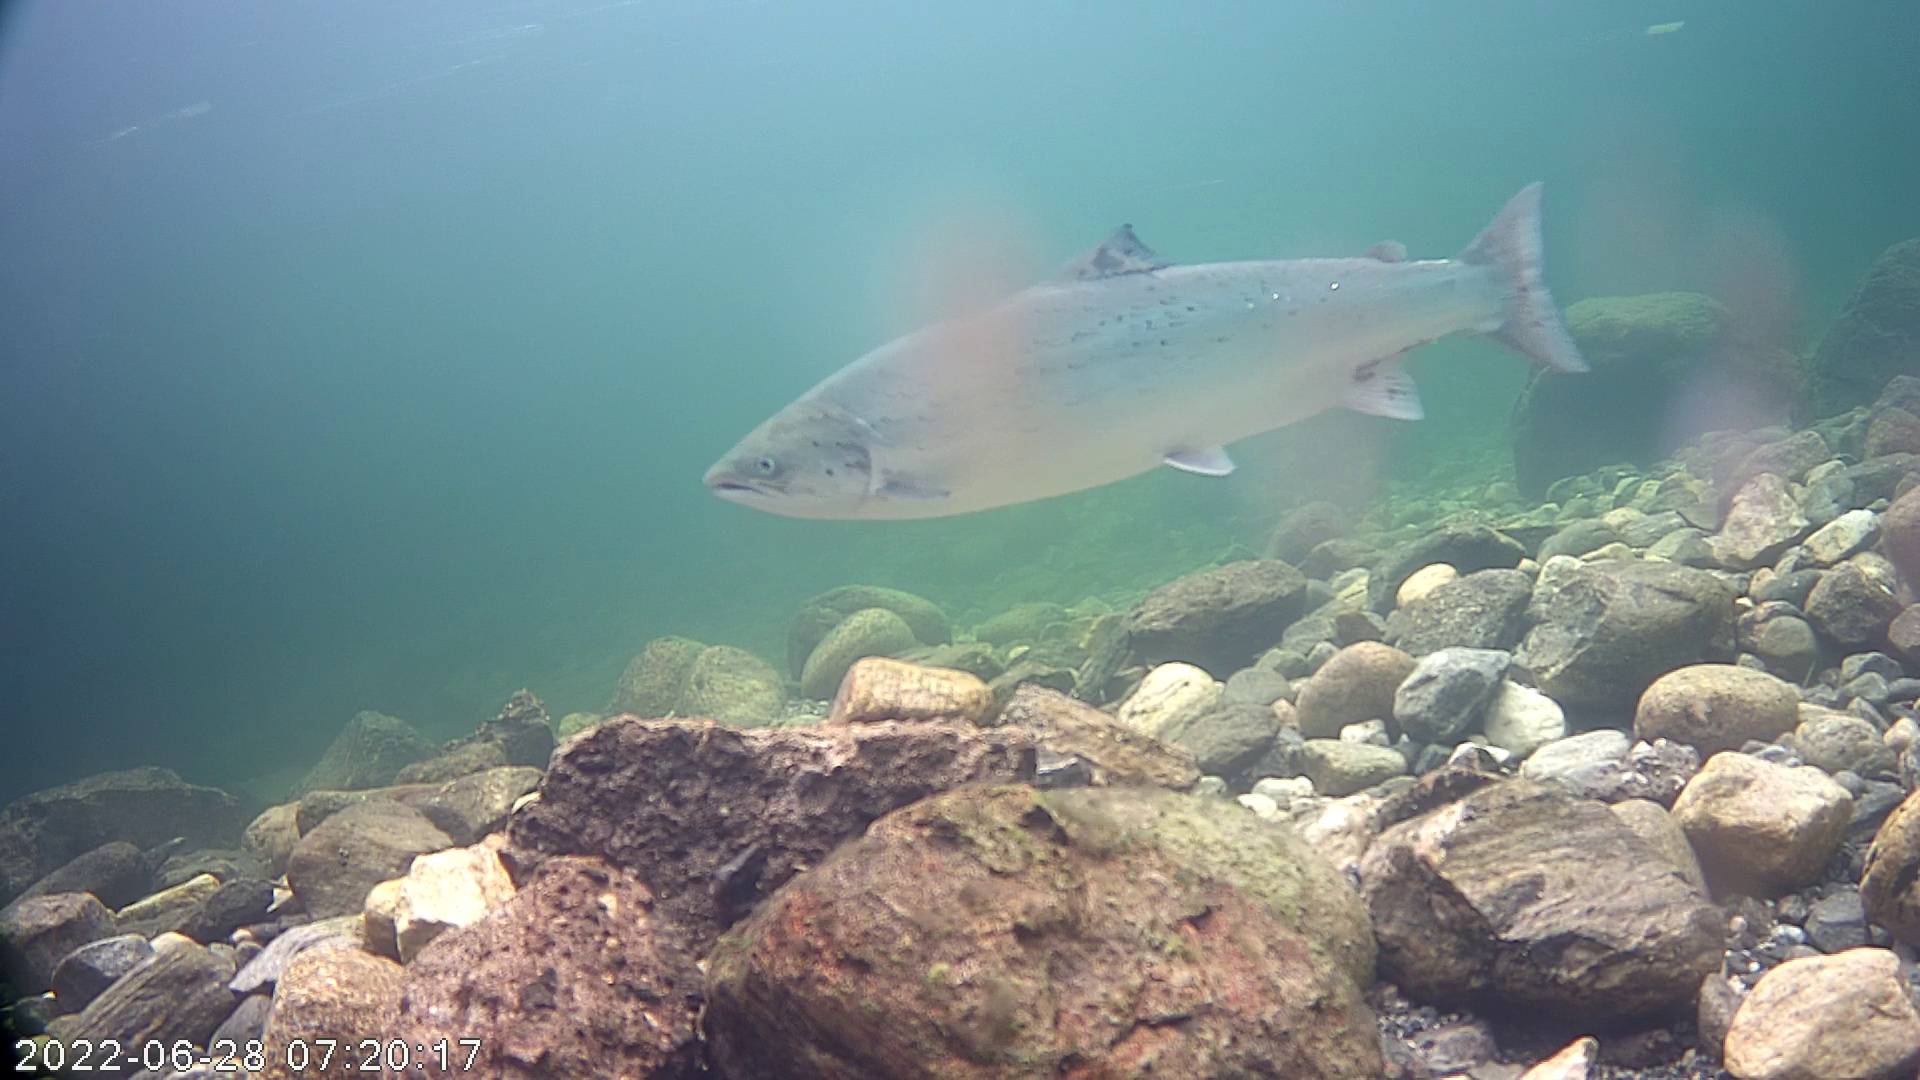salmon: (692, 129, 1613, 541)
